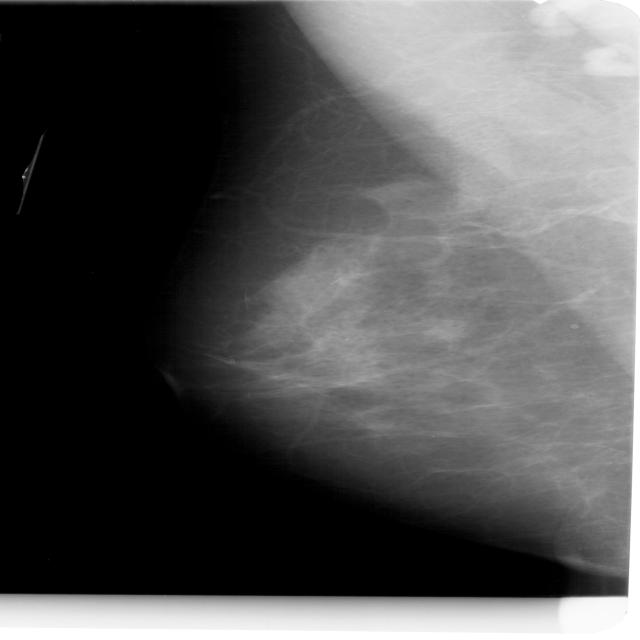normal: (138, 0, 640, 562)
